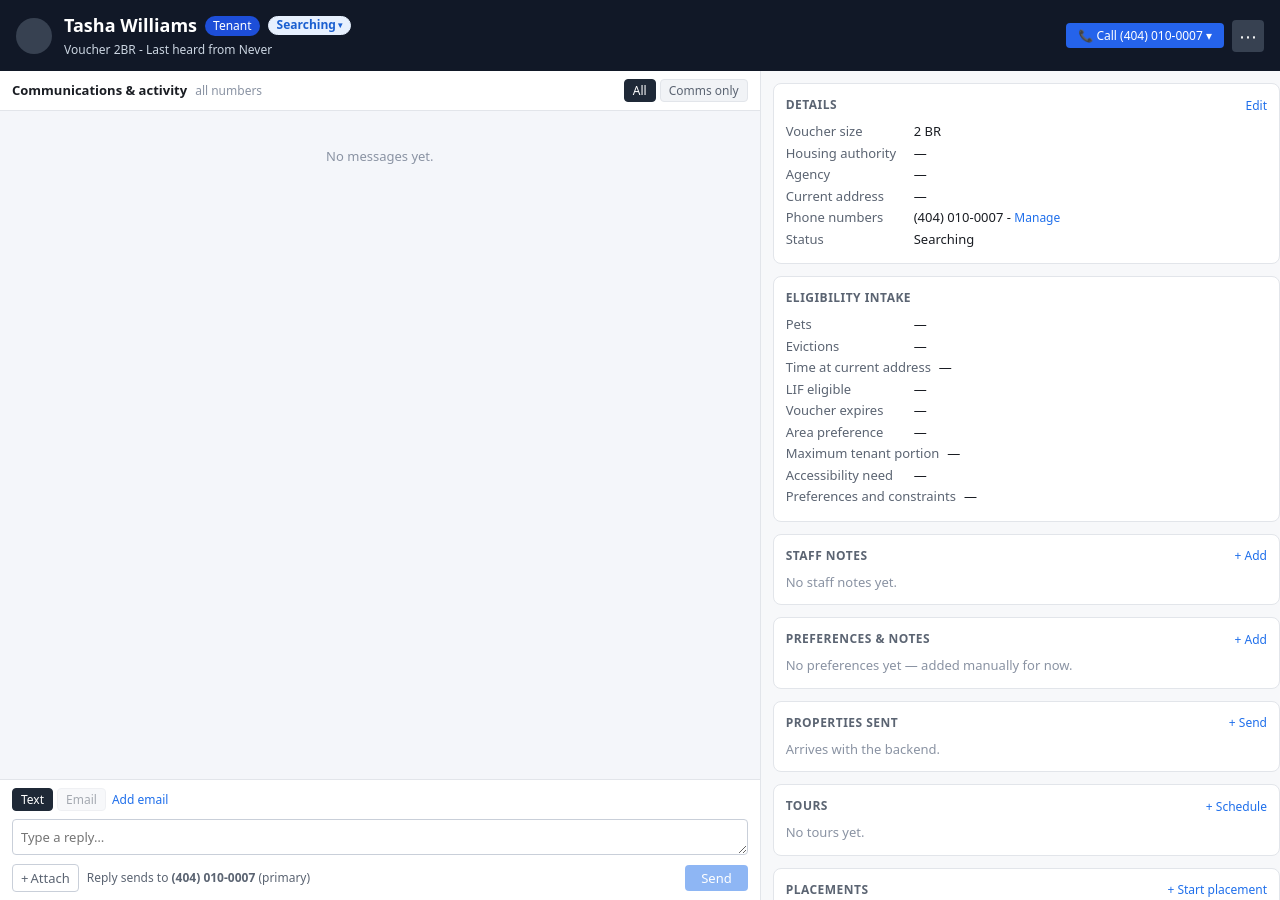
Scenario: ContactDetail › surfaces an inline error when the status transition fails (pill keeps the stored status)
The width and height of the screenshot is (1280, 900).
Step 1. Click the button with aria-label "Contact status: Searching" → point(309, 26), box [268,16,351,35]
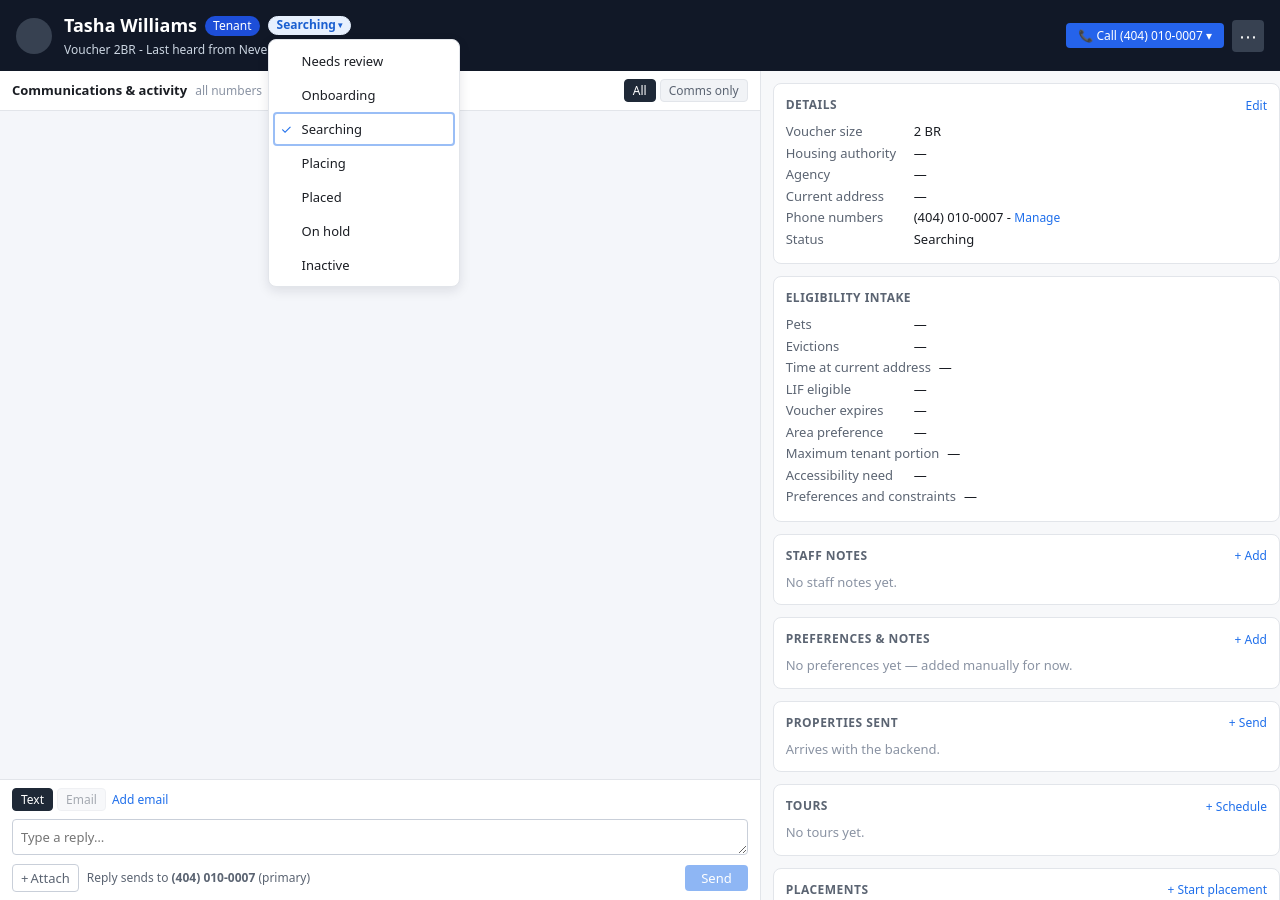
Step 2. Click the menu item "Inactive" → point(364, 265), box [272,248,454,282]
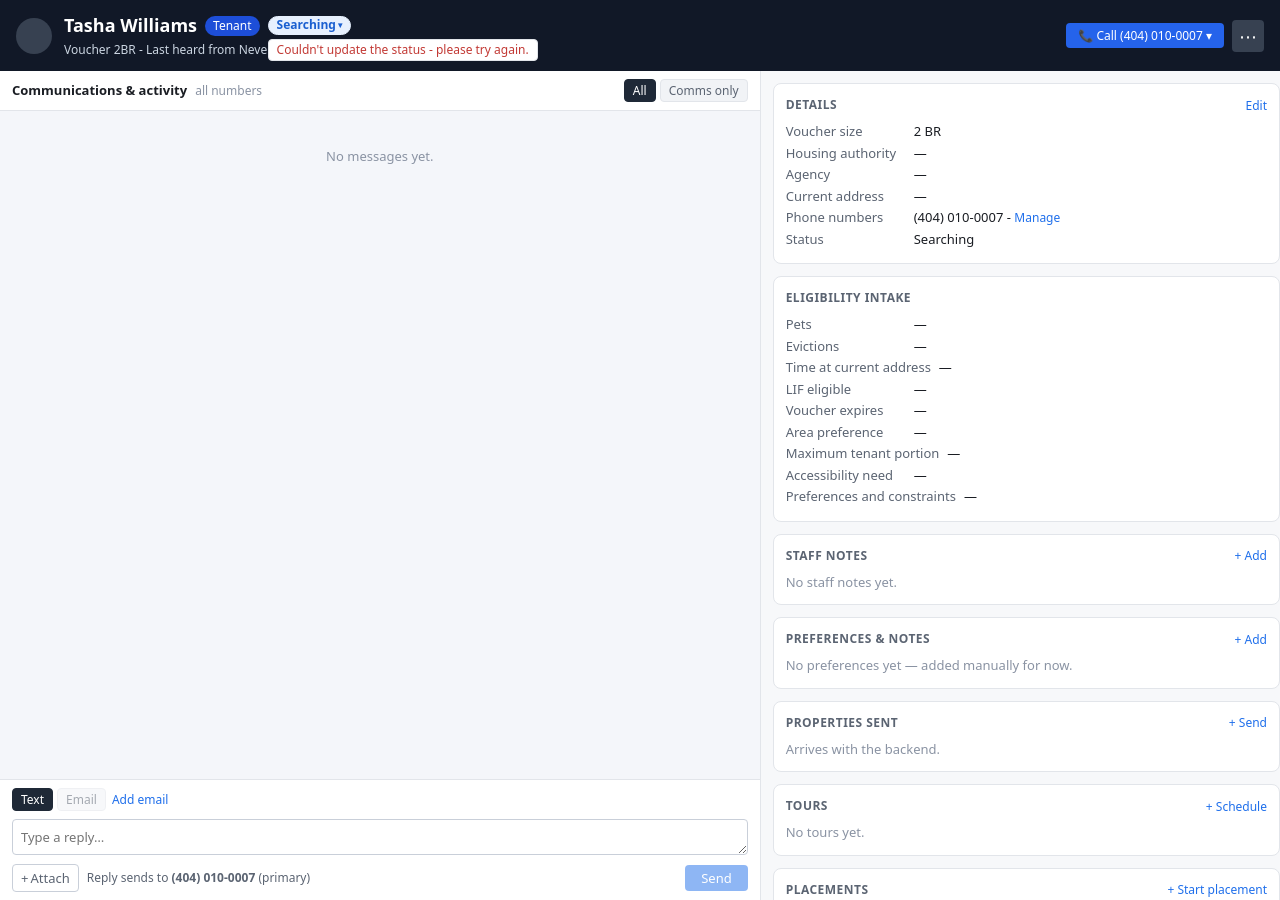
expect the button with aria-label "Contact status: Searching" is shown: met, box [268,16,351,35]
expect the message shows "Couldn't update the status": met, box [276,41,529,58]
